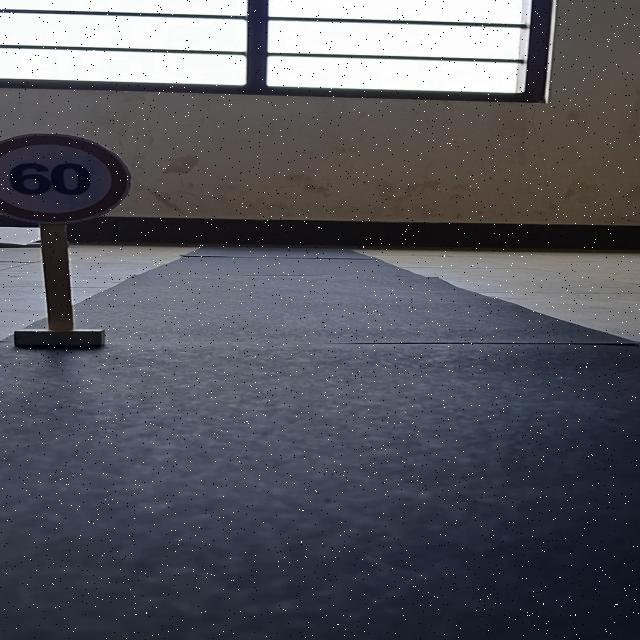Speed60: (0, 129, 130, 231)
